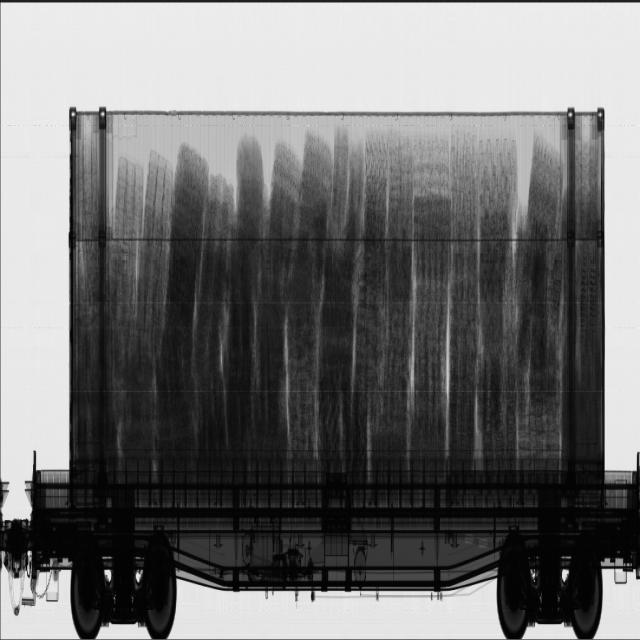textiles: (74, 126, 601, 467)
